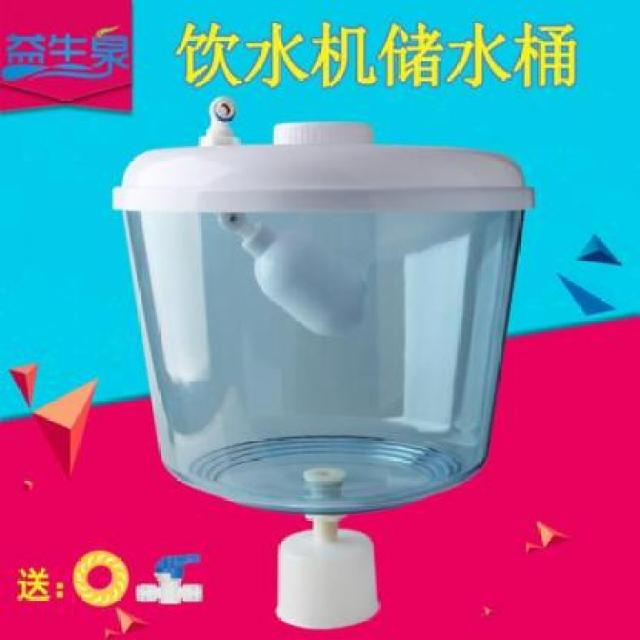coolerbottle: (109, 143, 542, 518)
